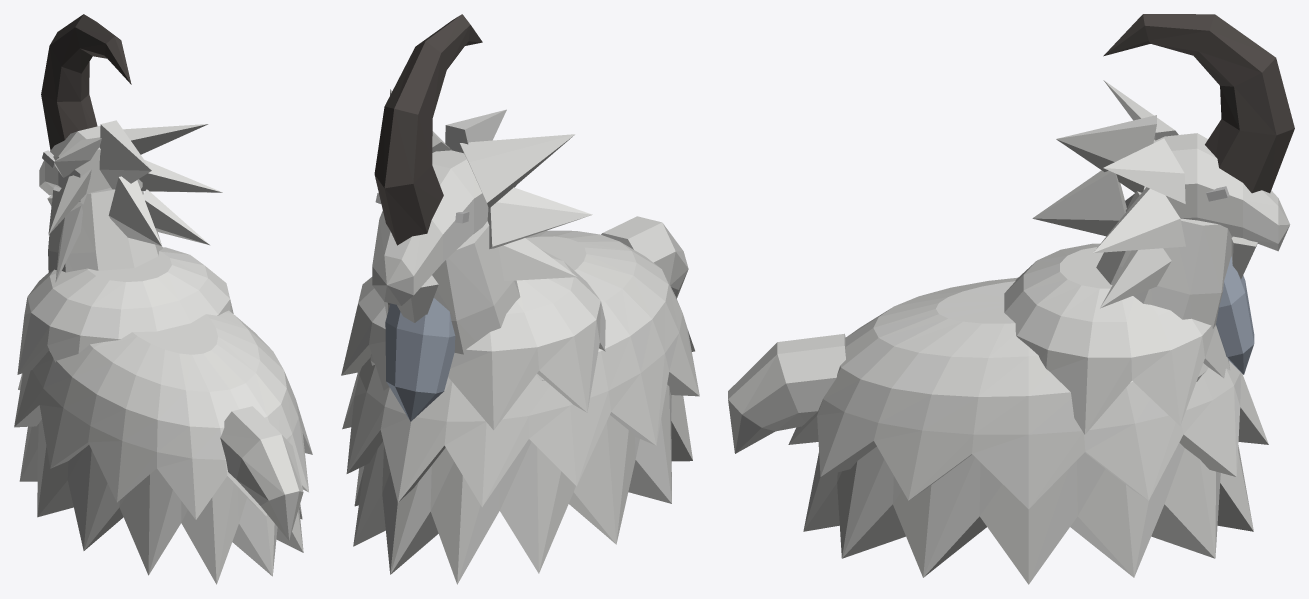
File: animal_alphathrumbo.obj
The picture shows the model from 3 angles, left to right: view 1: azimuth 30°, elevation 25°; view 2: azimuth 150°, elevation 25°; view 3: azimuth 270°, elevation 25°; orthographic projection. The views are drawn at different scales.
Parts seen in each view (by area): view 1: animal_alphathrumbo; view 2: animal_alphathrumbo; view 3: animal_alphathrumbo.
Part boxes in pixels (<box>): animal_alphathrumbo: <box>14,14,312,584</box>; animal_alphathrumbo: <box>341,14,699,584</box>; animal_alphathrumbo: <box>728,14,1294,584</box>.
Bounding box in the file's own units: 1.95 × 3.6 × 3.63.
